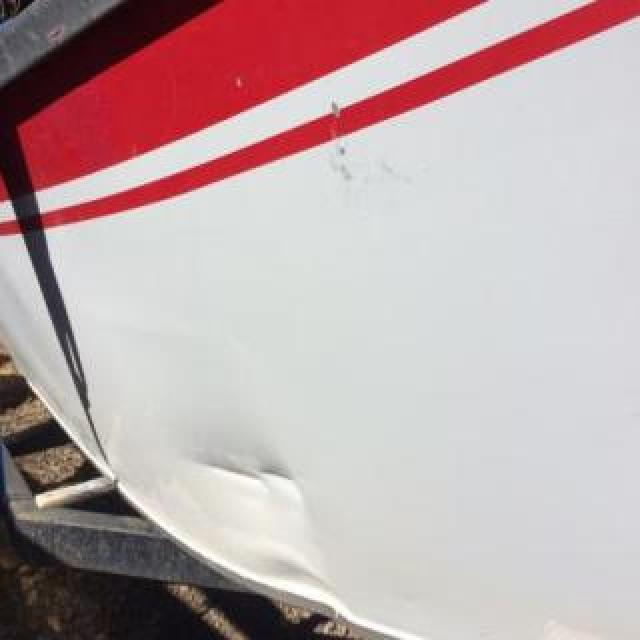dent: (266, 550, 354, 628), (188, 449, 308, 497)
